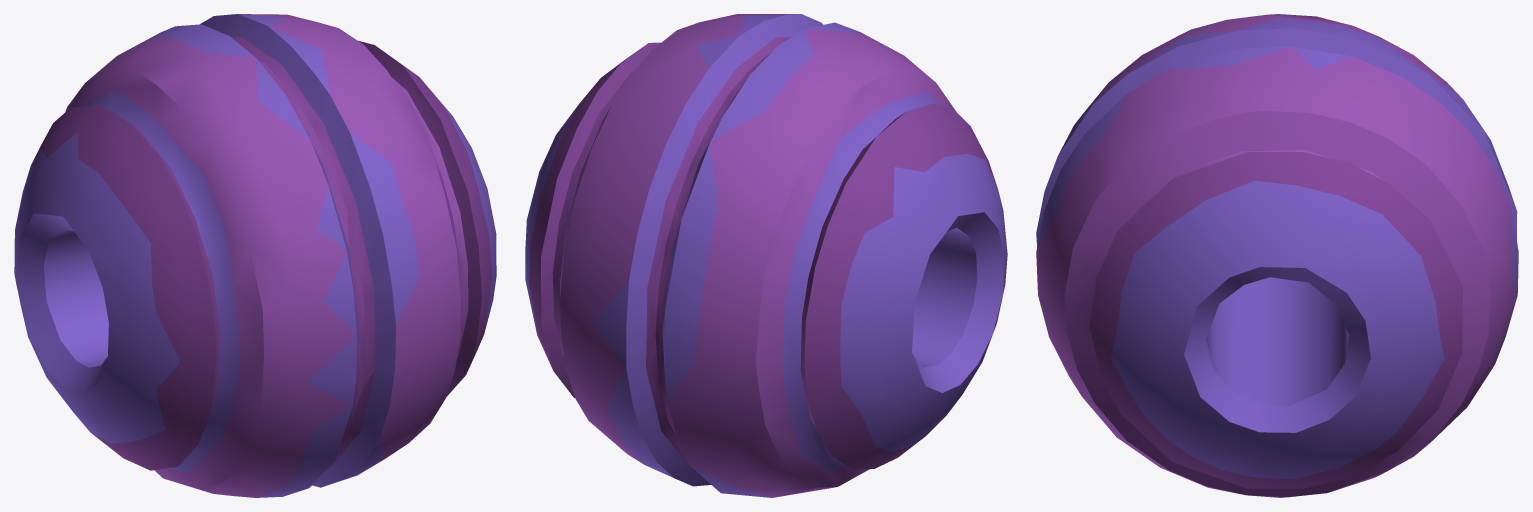
Rendered from Planet 8.glb.
3 renders of one model, left to right at view 1: azimuth 30°, elevation 25°; view 2: azimuth 150°, elevation 25°; view 3: azimuth 270°, elevation 25°, orthographic.
Parts seen in each view (by area): view 1: Planet_8; view 2: Planet_8; view 3: Planet_8.
Part boxes in pixels (x1=…): Planet_8: x1=14, y1=14, x2=496, y2=497; Planet_8: x1=525, y1=14, x2=1007, y2=497; Planet_8: x1=1036, y1=14, x2=1518, y2=497.
Bounding box in the file's own units: 3.45 × 3.75 × 3.75.
Materials: 1 (1 with a texture image).
